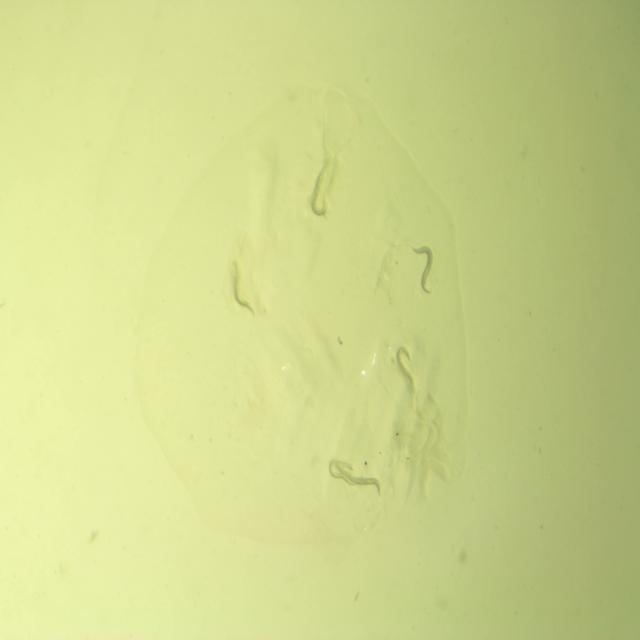worm: (332, 458, 383, 500), (229, 257, 257, 321), (407, 241, 437, 298), (308, 160, 334, 220), (392, 343, 418, 393), (326, 456, 359, 489)
